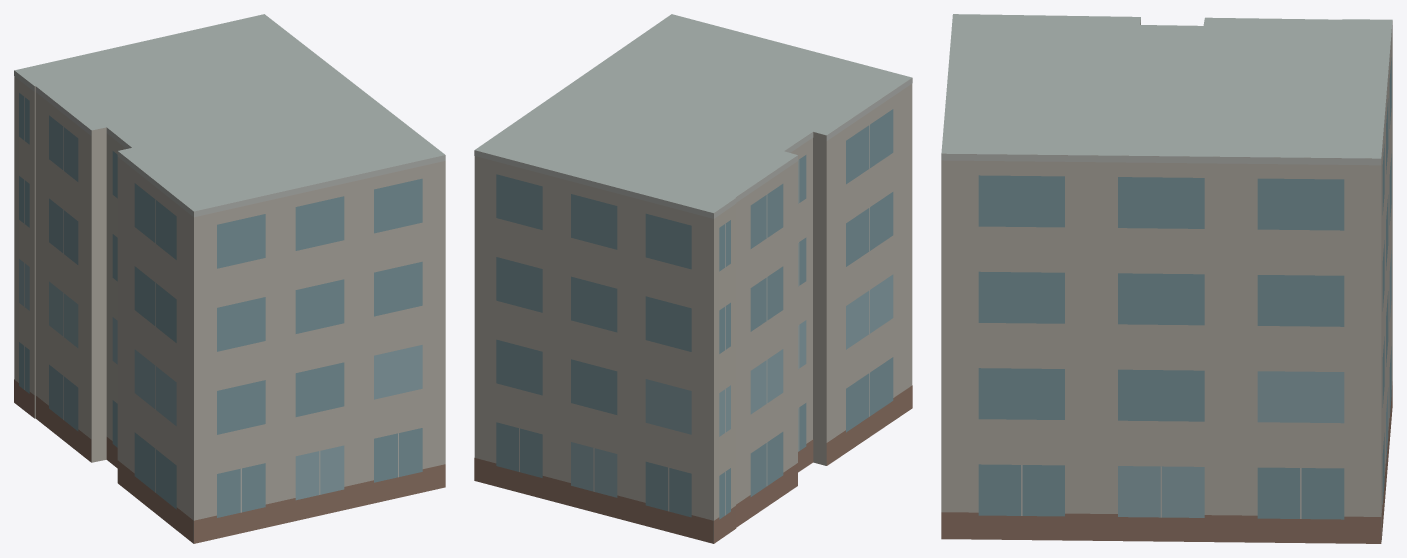
Rendered from survey-upis-32664936.glb.
3 renders of one model, left to right at view 1: azimuth 30°, elevation 25°; view 2: azimuth 150°, elevation 25°; view 3: azimuth 270°, elevation 25°, orthographic. The views are drawn at different scales.
Parts seen in each view (by area): view 1: survey-upis-32664936.tmp; view 2: survey-upis-32664936.tmp; view 3: survey-upis-32664936.tmp.
Part boxes in pixels (x1,y1,x2,y2): survey-upis-32664936.tmp: (14, 14, 445, 543); survey-upis-32664936.tmp: (474, 14, 912, 543); survey-upis-32664936.tmp: (941, 14, 1392, 543).
Bounding box in the file's own units: 11.25 × 13.97 × 14.84.
